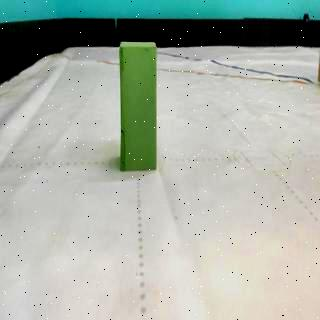greenbox: (120, 41, 158, 170)
